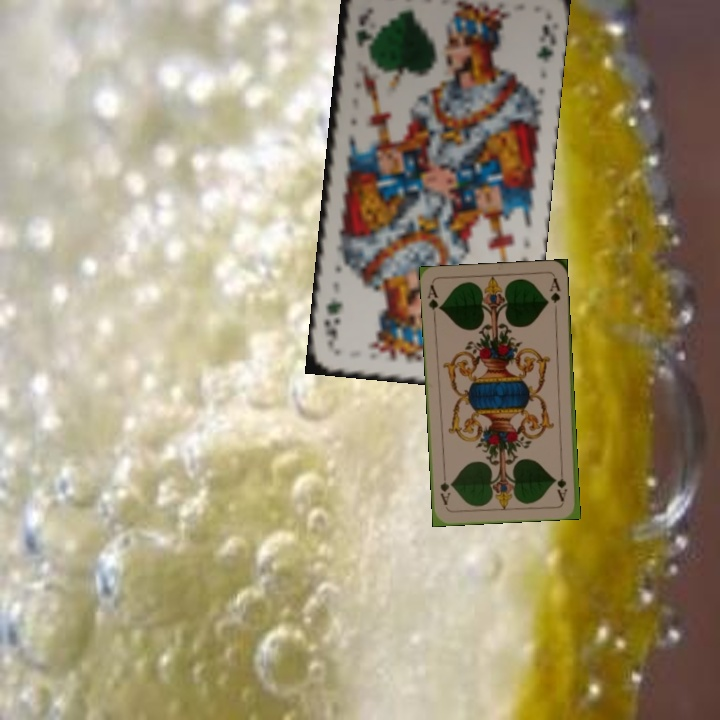GA: (424, 281, 444, 321), (554, 463, 570, 503)
GK: (351, 11, 372, 49)
